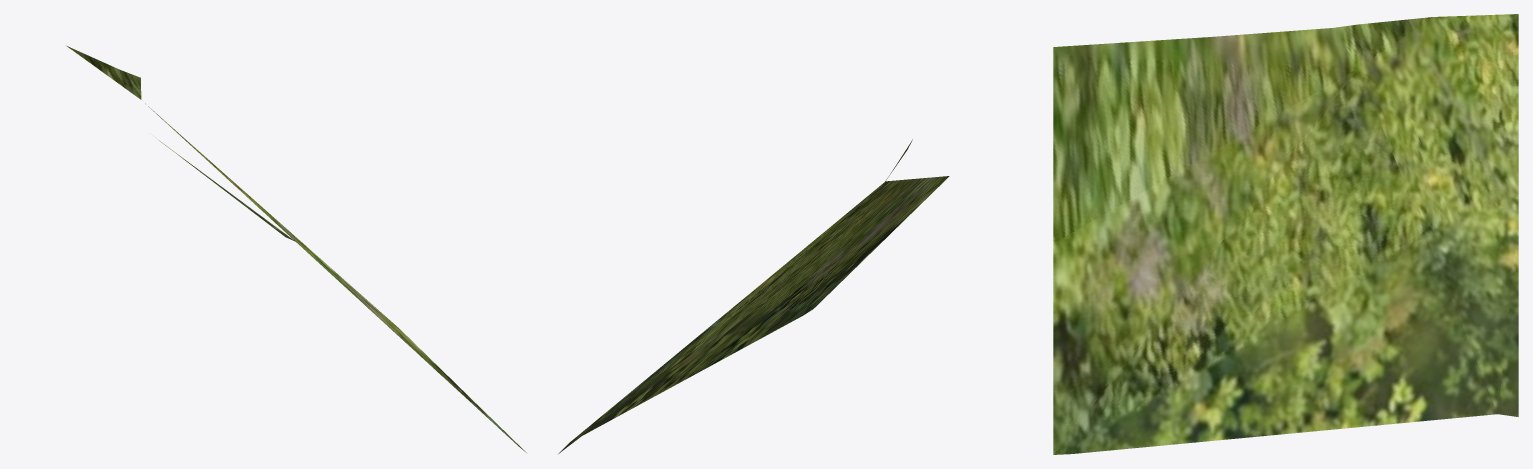
The picture shows the model from 3 angles, left to right: view 1: azimuth 30°, elevation 25°; view 2: azimuth 150°, elevation 25°; view 3: azimuth 270°, elevation 25°; orthographic projection. The views are drawn at different scales.
Bounding box in the file's own units: 1.9 × 2.2 × 2.95.
2 materials, 2 textured.
